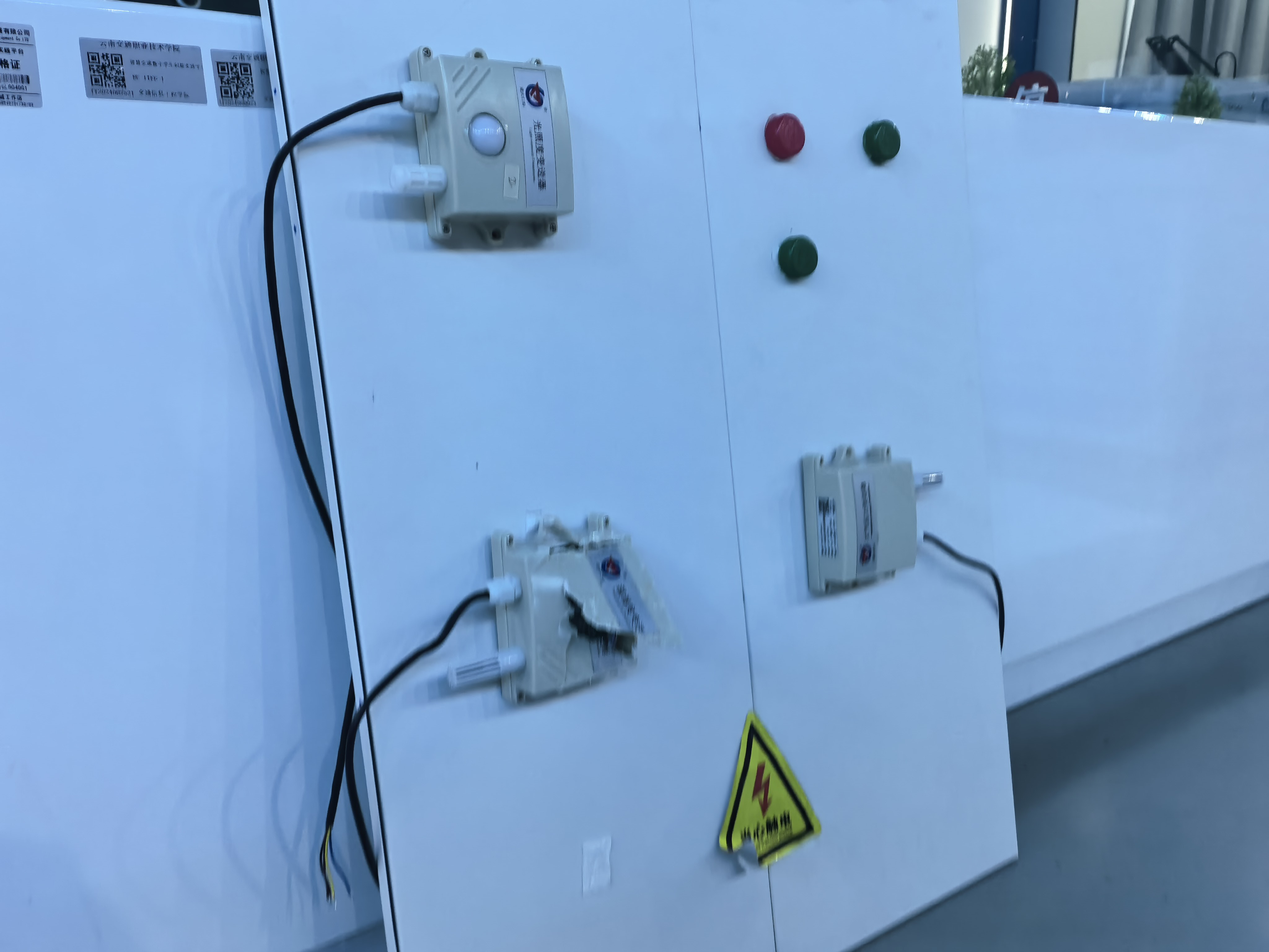red_warning: (747, 85, 823, 170)
sensor_damage: (419, 485, 708, 729)
